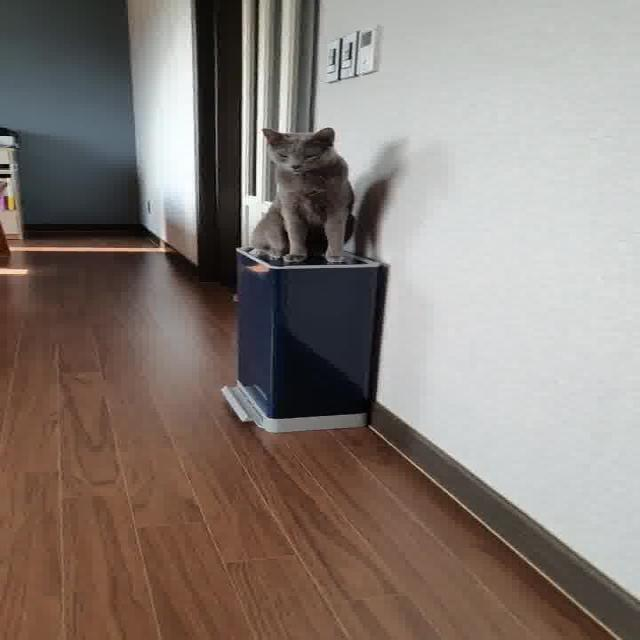cat: (218, 115, 392, 278)
